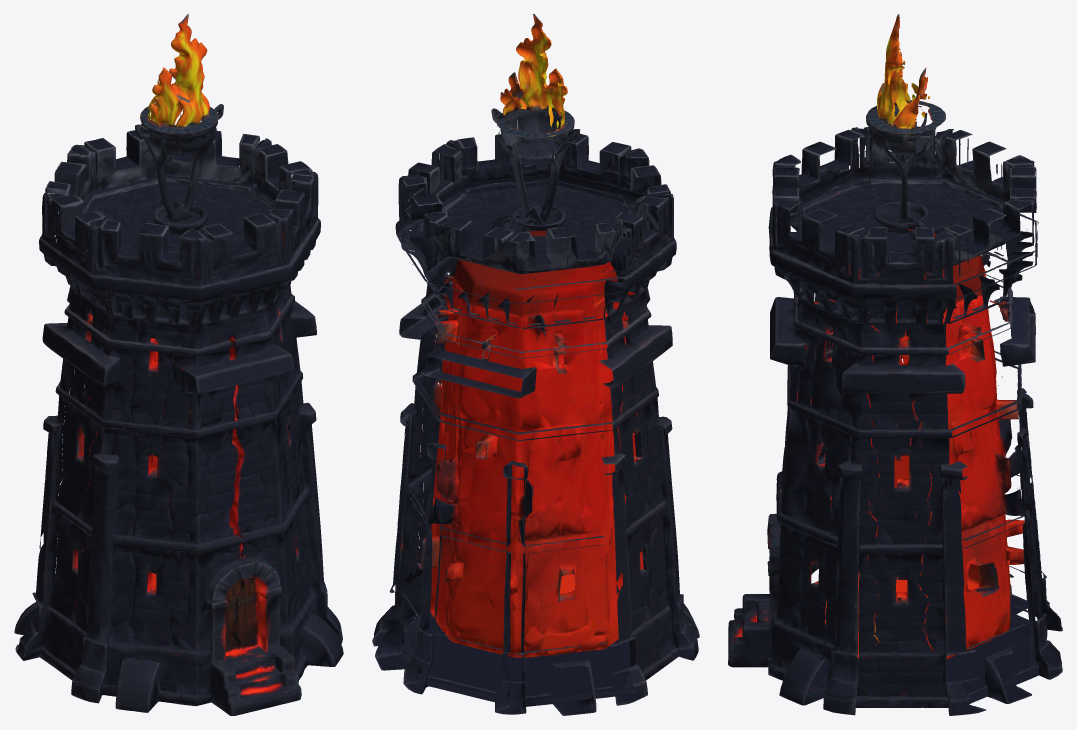
File: volcano_tower.glb
The picture shows the model from 3 angles, left to right: view 1: azimuth 30°, elevation 25°; view 2: azimuth 150°, elevation 25°; view 3: azimuth 270°, elevation 25°; orthographic projection.
Bounding box in the file's own units: 0.848 × 1.9 × 0.9039.
Materials: 1 (1 with a texture image).
